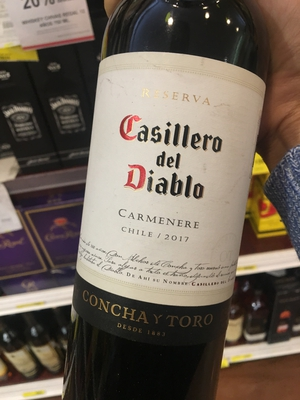casillero del diablo carmenere: (64, 24, 272, 399)
